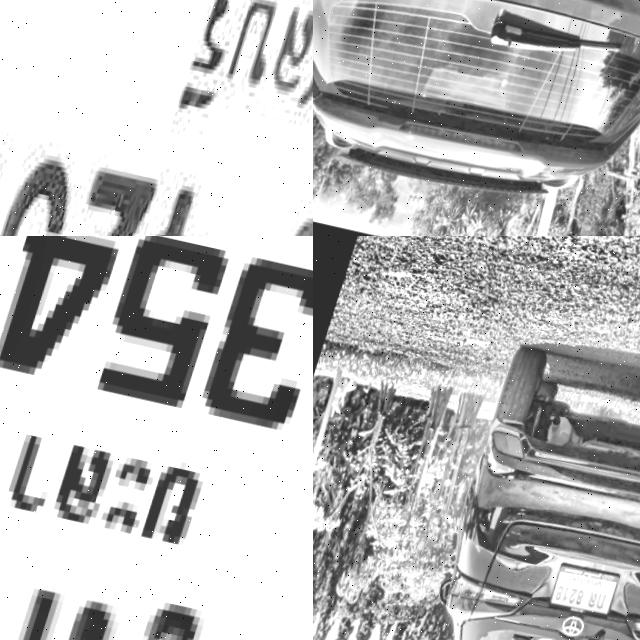license-plate: (0, 236, 313, 640), (0, 0, 313, 236), (552, 555, 632, 621)
